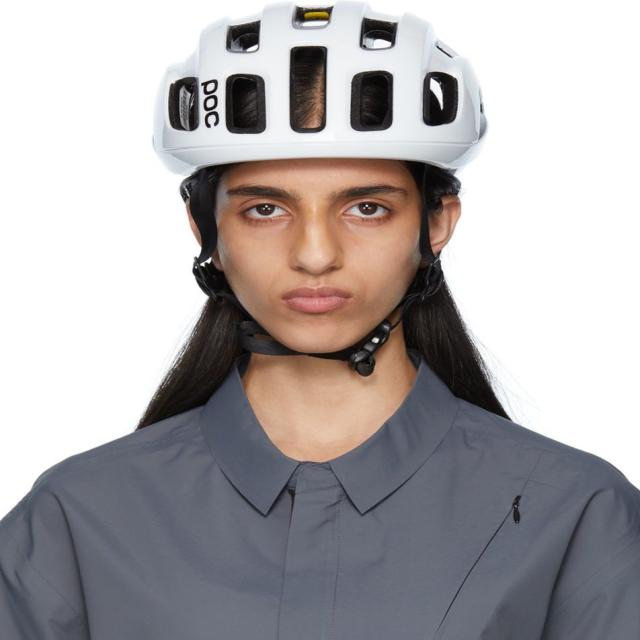Helmet: (146, 4, 492, 355)
